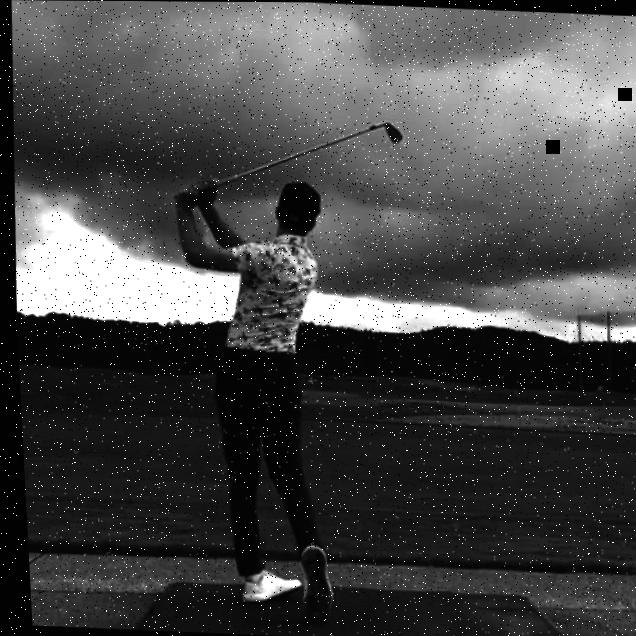ClubHead: (384, 122, 403, 144)
